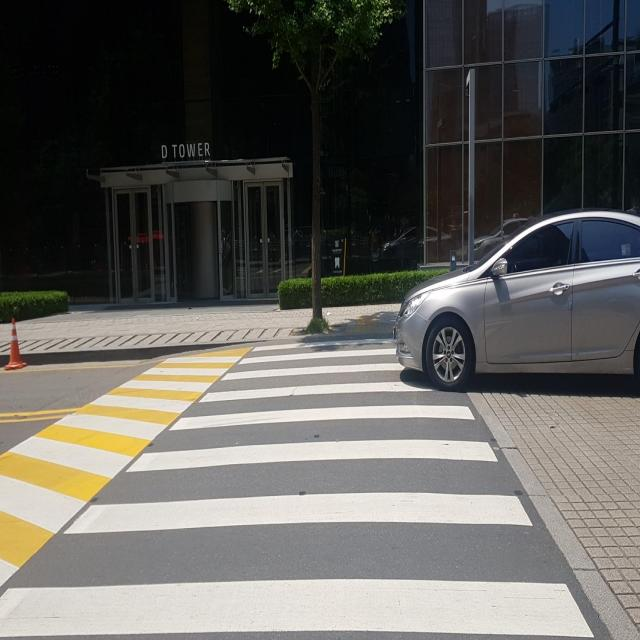횡단보도: (0, 336, 597, 640)
